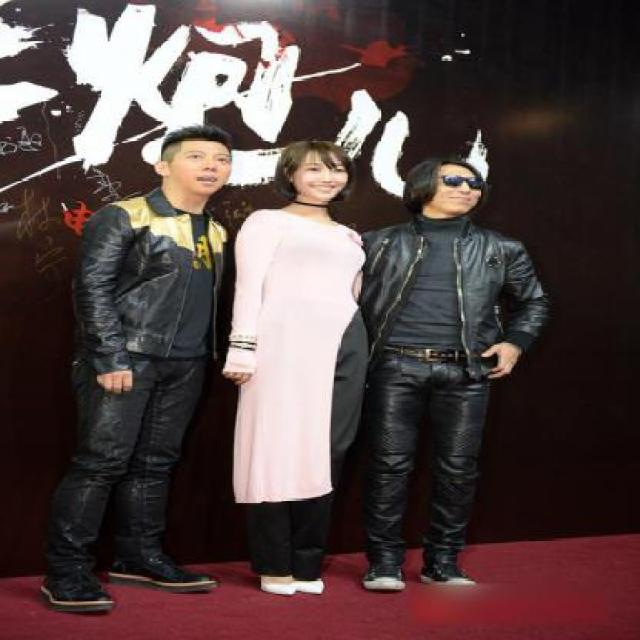Person: (48, 128, 232, 612), (375, 144, 556, 596), (224, 135, 376, 593)
